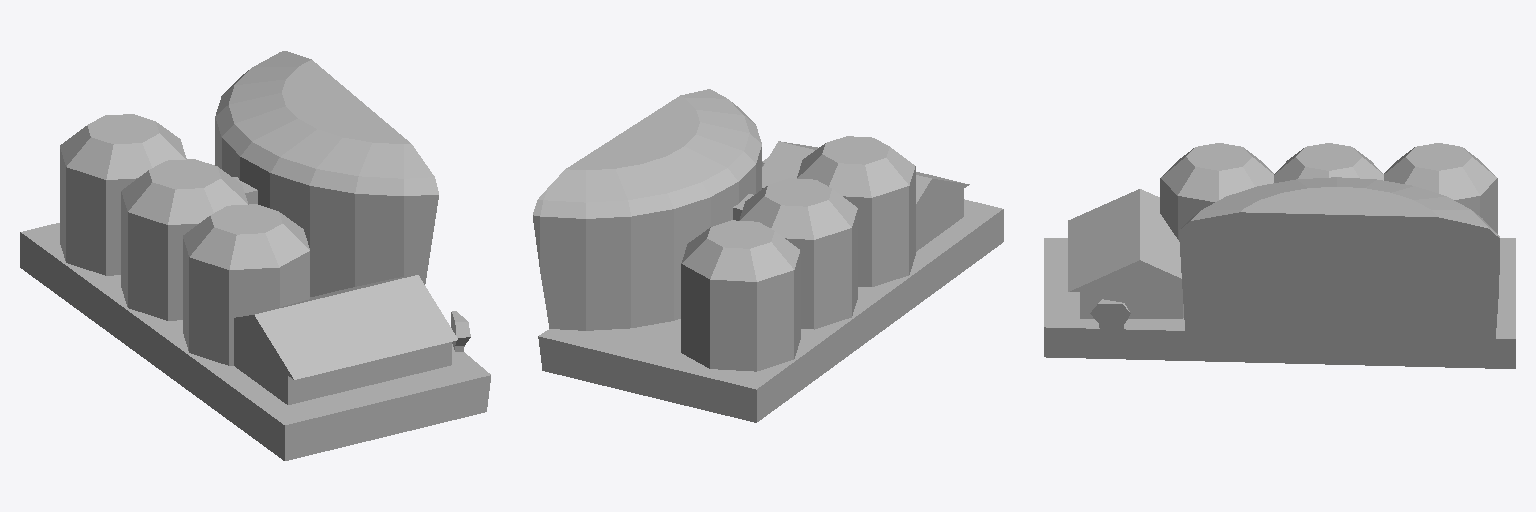
The robot description file, URDF, robot "root":
<?xml version='1.0' encoding='utf-8'?>
<robot name="root">
  <link name="link_001">
    <visual>
      <origin xyz="0 0 0" rpy="0 0 0" />
      <geometry>
        <mesh filename="6f20622759343c6129bf3b424ed0d743951c35cf6aeea38616ce350b79c299e1_scale_000.stl" scale="1.0000E+00 1.0000E+00 1.0000E+00" />
      </geometry>
      <material name="">
        <color rgba="7.50E-01 7.50E-01 7.50E-01 1" />
      </material>
    </visual>
    <collision>
      <origin xyz="0 0 0" rpy="0 0 0" />
      <geometry>
        <mesh filename="6f20622759343c6129bf3b424ed0d743951c35cf6aeea38616ce350b79c299e1_scale_000.stl" scale="1.0000E+00 1.0000E+00 1.0000E+00" />
      </geometry>
    </collision>
  </link>
</robot>

--- What the picture shows (computed from the rendered views, not written in the file) ---
Views: 3 orthographic renders of the robot side by side, from view 1: azimuth 30°, elevation 25°; view 2: azimuth 150°, elevation 25°; view 3: azimuth 270°, elevation 25°.
Robot: root — 1 links, 0 joints (none); root link link_001; default pose: all joints at 0.
Visible links, largest first — view 1: link_001; view 2: link_001; view 3: link_001.
Boxes of the visible links, x1=… form: link_001: x1=20, y1=51, x2=490, y2=460; link_001: x1=533, y1=89, x2=1003, y2=422; link_001: x1=1044, y1=143, x2=1515, y2=368.
Size in the robot's own frame: 0.0652 by 0.1197 by 0.0449 metres.
1 mesh visuals loaded from 1 distinct referenced files (1 binary STL).
